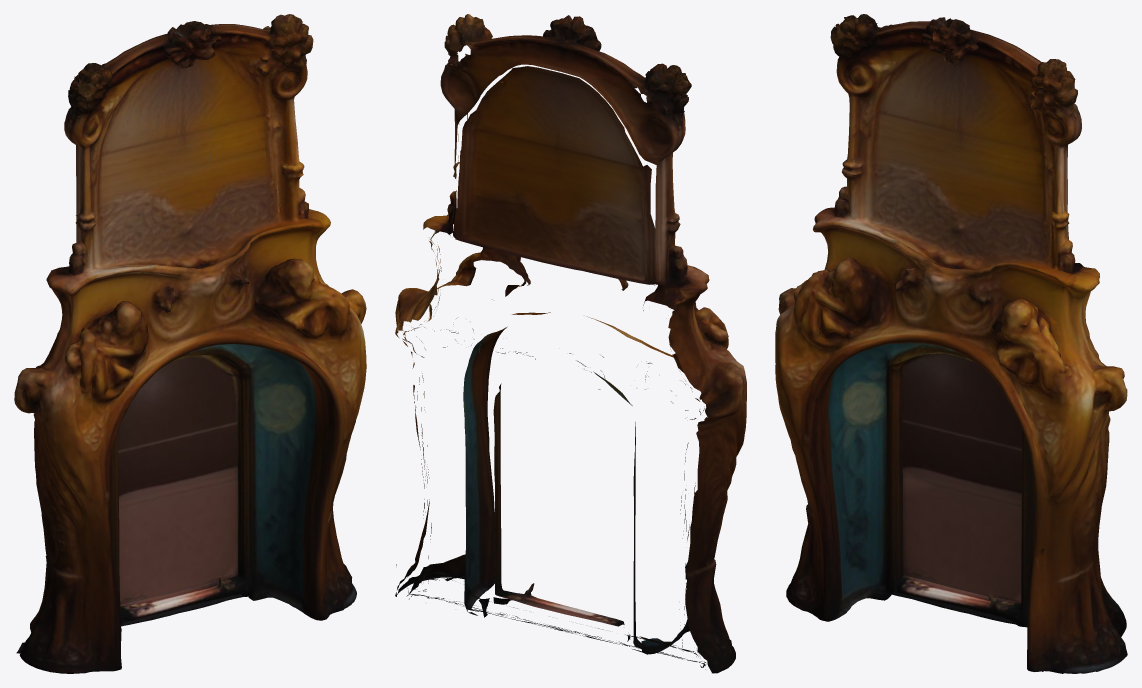
The model's file is fireplace-83152-detail.glb.
3 renders of one model, left to right at view 1: azimuth 30°, elevation 25°; view 2: azimuth 150°, elevation 25°; view 3: azimuth 330°, elevation 25°, orthographic.
Parts seen in each view (by area): view 1: Mesh; view 2: Mesh; view 3: Mesh.
Boxes of the visible parts, x1,y1,x2,y2 form: Mesh: [14, 14, 366, 673]; Mesh: [395, 14, 746, 673]; Mesh: [775, 14, 1127, 673].
Size of the model in its own units: 2.11 by 3.5 by 0.508.
Materials: 1 (1 with a texture image).
